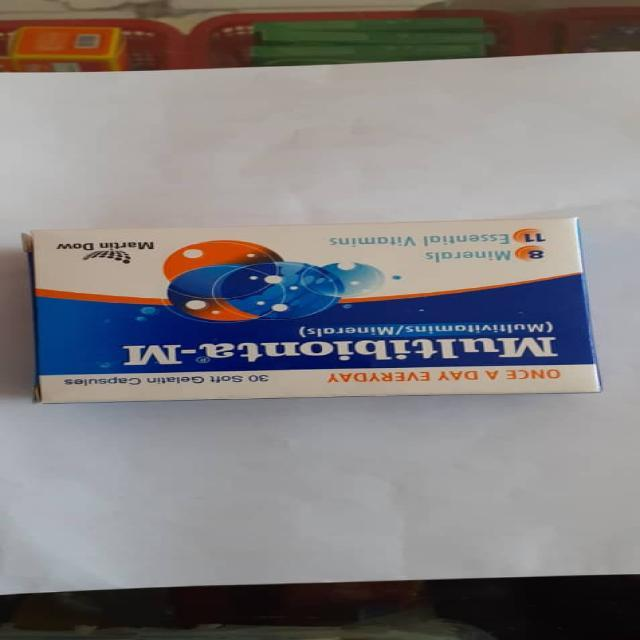drug-name: (111, 338, 563, 366)
